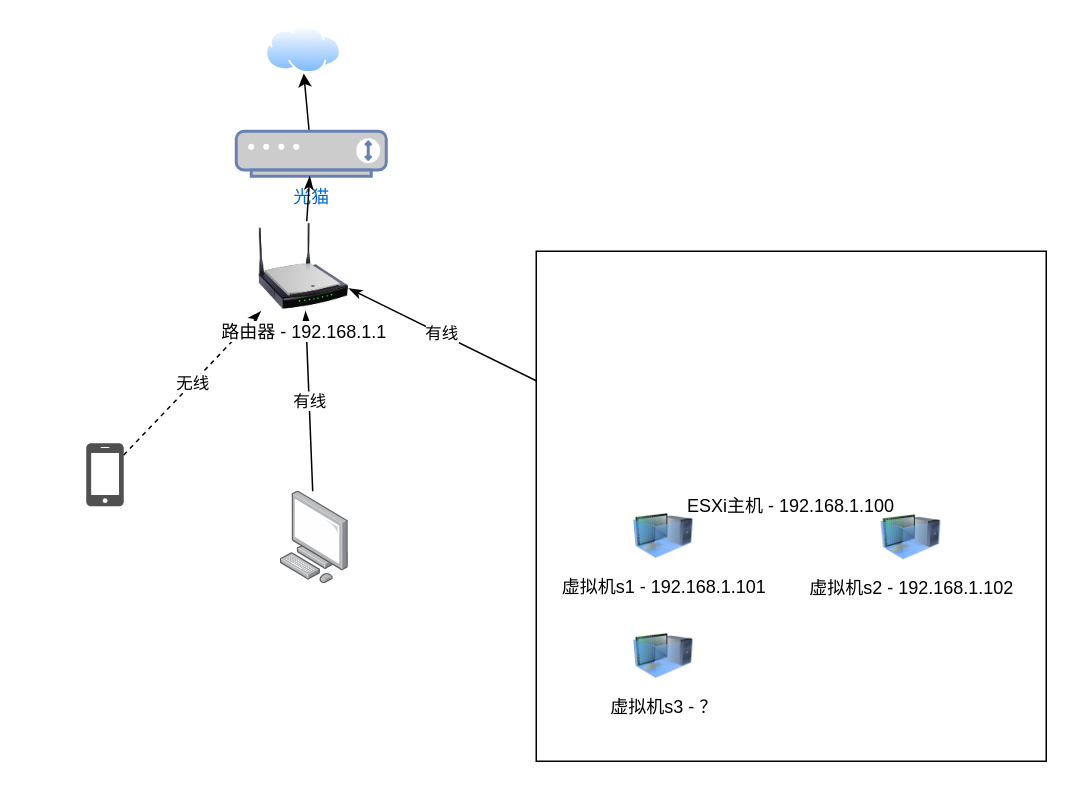
This 1073x788 diagram has some shape labels left out. Each missing label, with the centre of its shape:
internet: the point at 303,49
个人电脑 - 192.168.1.11: the point at 314,536
手机 - 192.168.1.10: the point at 104,474
